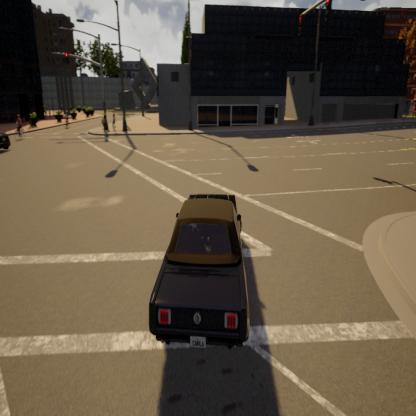Cars: (152, 165, 252, 350), (0, 111, 17, 167)
Pedestrian: (111, 107, 119, 140), (101, 113, 110, 138)
